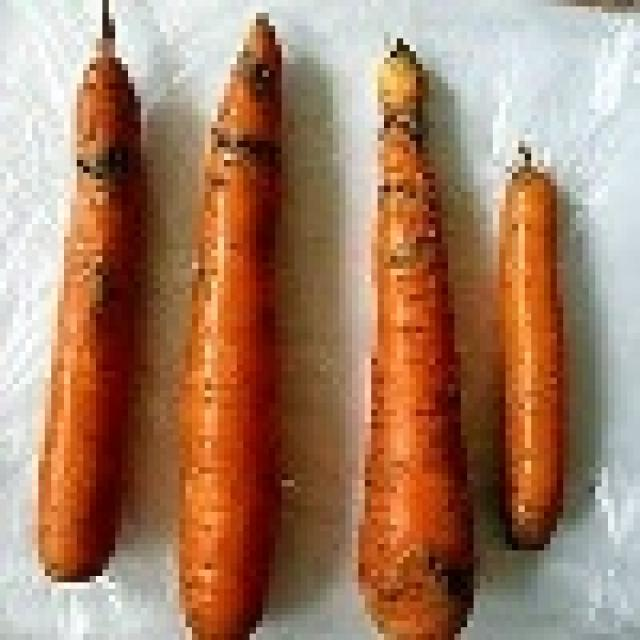Stale_Carrot: (168, 16, 308, 640), (348, 0, 471, 640), (39, 34, 149, 594), (487, 89, 582, 602)
